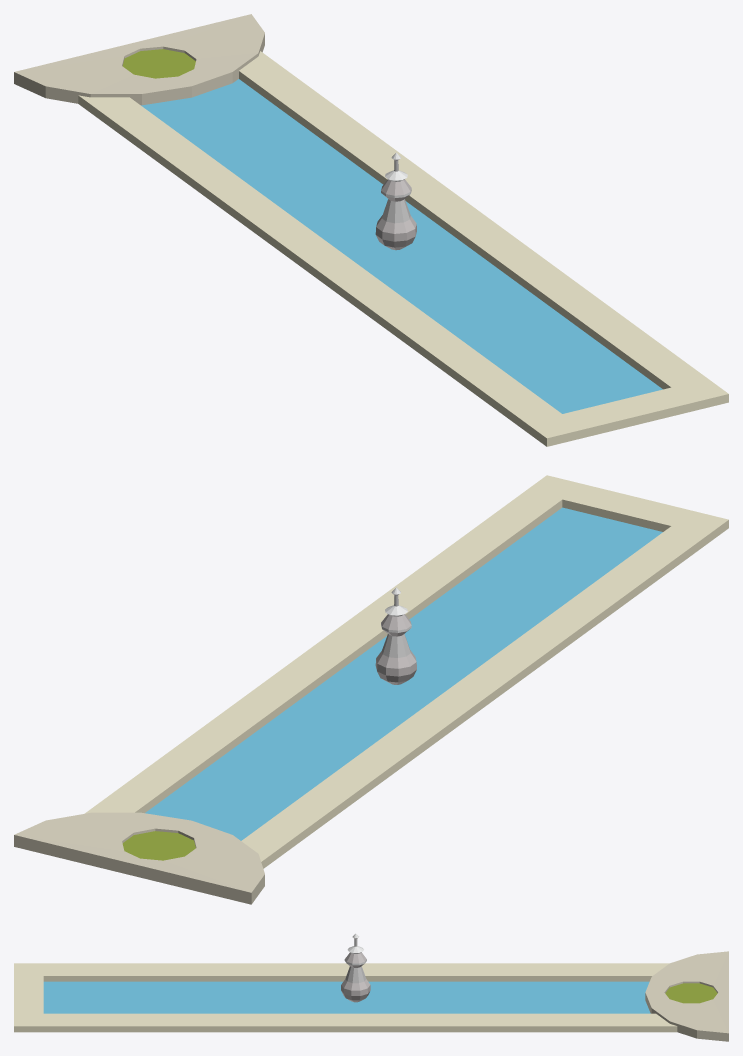
File: delh_prop_01.fbx
The picture shows the model from 3 angles, top to bottom: view 1: azimuth 30°, elevation 25°; view 2: azimuth 150°, elevation 25°; view 3: azimuth 270°, elevation 25°; orthographic projection. The views are drawn at different scales.
Visible parts, largest first — view 1: delh_prop_01_base, delh_prop_01_fountain; view 2: delh_prop_01_base, delh_prop_01_fountain; view 3: delh_prop_01_base, delh_prop_01_fountain.
Part boxes in pixels (left/top/right/bottom): delh_prop_01_base: left=14, top=14, right=728, bottom=446; delh_prop_01_fountain: left=375, top=152, right=416, bottom=250; delh_prop_01_base: left=14, top=475, right=728, bottom=904; delh_prop_01_fountain: left=375, top=587, right=416, bottom=684; delh_prop_01_base: left=14, top=951, right=728, bottom=1041; delh_prop_01_fountain: left=341, top=933, right=370, bottom=1002.
Bounding box in the file's own units: 232 × 89.22 × 855.
